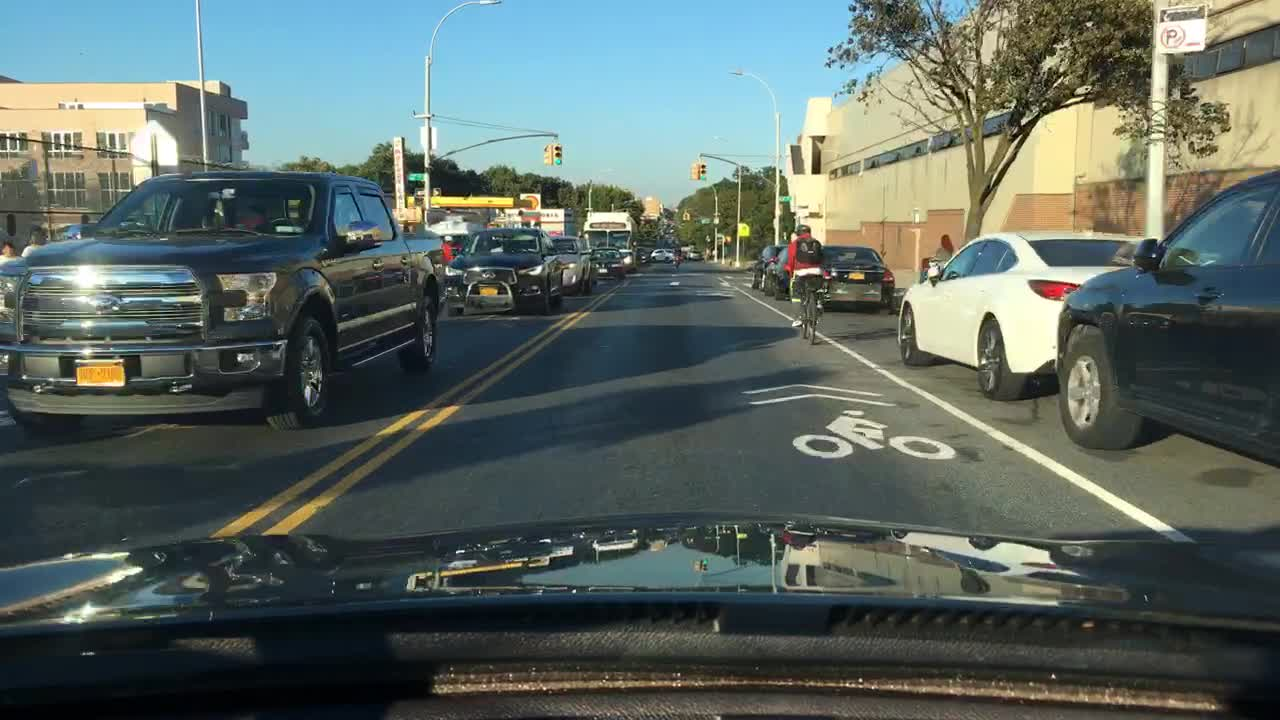bike: (790, 262, 826, 346), (671, 249, 684, 271)
bus: (579, 210, 638, 273)
car: (0, 169, 443, 432), (1052, 164, 1277, 471), (894, 229, 1150, 399), (445, 227, 558, 317), (792, 246, 896, 311), (766, 238, 824, 298), (546, 230, 592, 290), (753, 242, 788, 287), (588, 246, 624, 281), (431, 219, 475, 242), (62, 220, 94, 236), (649, 248, 676, 259), (637, 245, 650, 262), (686, 247, 704, 259)
person: (929, 230, 954, 266), (22, 230, 45, 252), (0, 239, 16, 263)
rider: (781, 222, 834, 333), (671, 244, 682, 262)
traffic light: (699, 161, 709, 180), (542, 144, 551, 165), (553, 144, 562, 164), (680, 208, 691, 221), (689, 163, 697, 178)
traffic sign: (1159, 7, 1204, 53), (418, 127, 436, 148), (415, 189, 440, 198), (409, 170, 424, 180), (737, 224, 749, 236), (778, 195, 792, 203), (711, 214, 720, 225)
